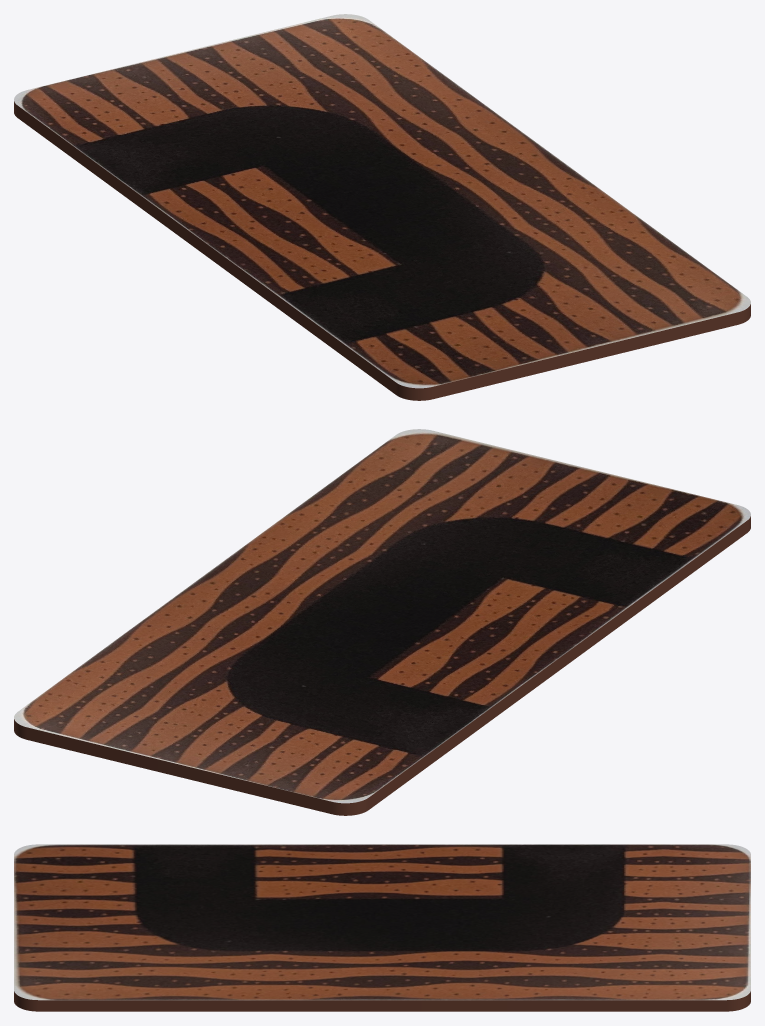
3 renders of one model, top to bottom at view 1: azimuth 30°, elevation 25°; view 2: azimuth 150°, elevation 25°; view 3: azimuth 270°, elevation 25°, orthographic. The views are drawn at different scales.
Visible parts, largest first — view 1: g3; view 2: g3; view 3: g3.
Part boxes in pixels (box(x1,y1,x2,y2)): g3: box(14, 14, 750, 400); g3: box(14, 429, 750, 815); g3: box(14, 844, 750, 1011).
Size of the model in its own units: 0.044 by 0.0015 by 0.088.
Materials: 3 (2 with a texture image).
